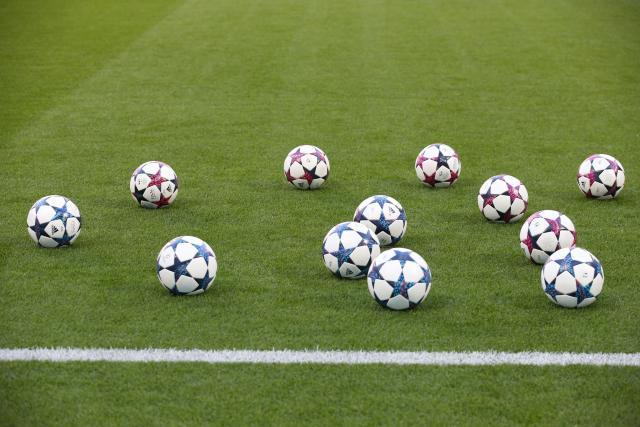ballon_football: (367, 246, 434, 312), (540, 246, 605, 310), (156, 235, 217, 296), (319, 221, 381, 279), (519, 209, 577, 265), (25, 194, 82, 250), (352, 194, 408, 247), (477, 173, 529, 225), (129, 161, 179, 210), (577, 152, 626, 201), (284, 144, 331, 192), (414, 143, 463, 189)
